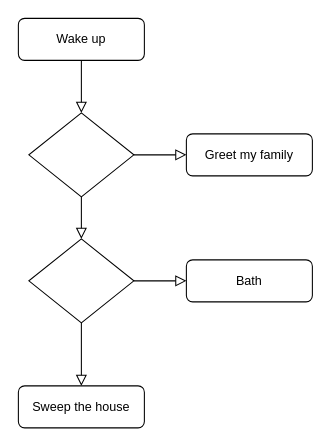
This 331x446 diagram has some shape labels left out. The shapes that lost their labels are listed below. From the top down, each one's box as (x1, y1, x2, y2) in pixels, then its label:
(28, 112, 134, 197): Lay my bed
(28, 238, 134, 323): Brush my teeth
